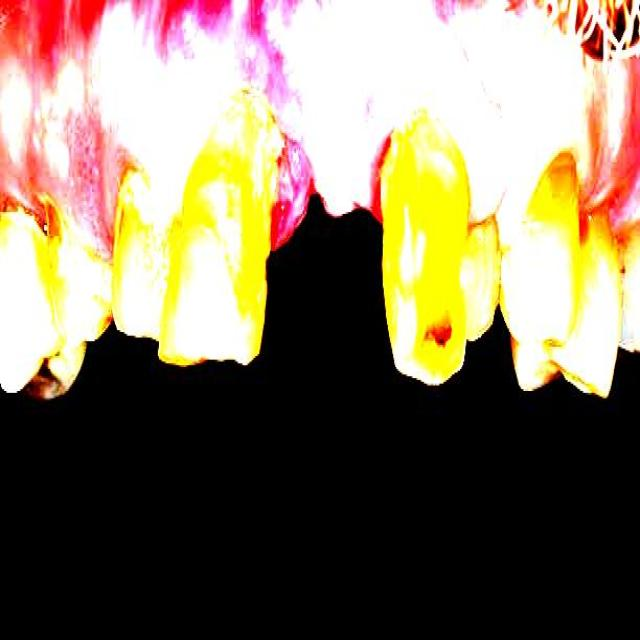caries: (416, 292, 468, 362), (28, 187, 73, 264), (538, 138, 574, 219)
